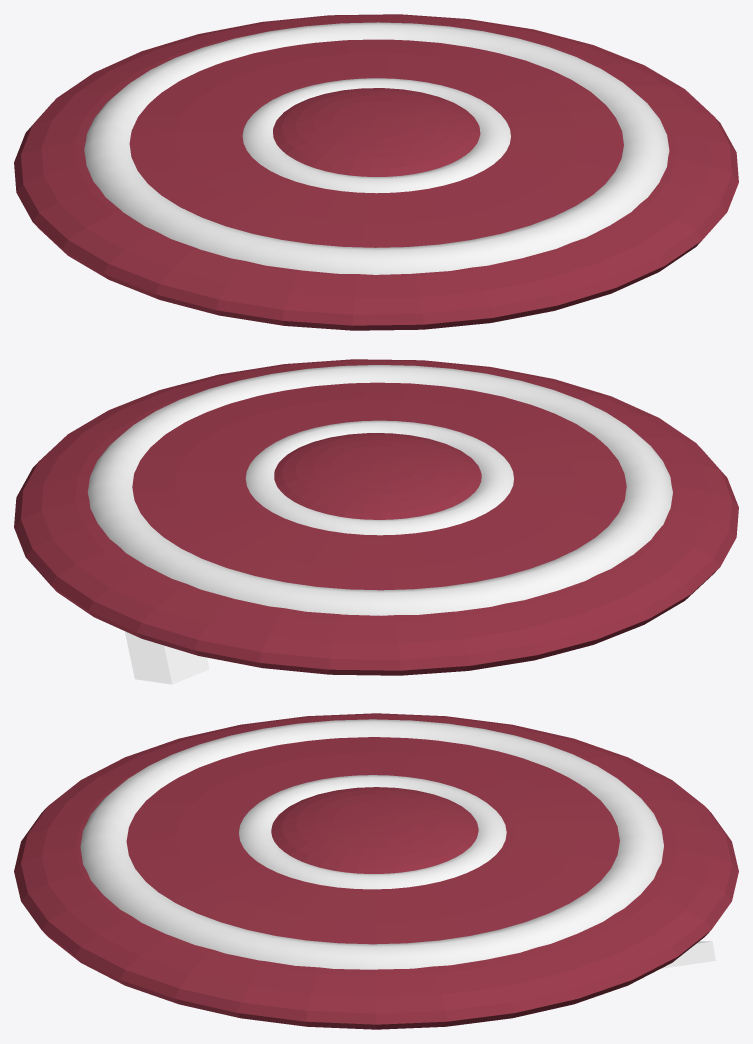
Rendered from landing_pad.glb.
3 views of the same model, one above another, from view 1: azimuth 30°, elevation 25°; view 2: azimuth 150°, elevation 25°; view 3: azimuth 270°, elevation 25° (orthographic).
Parts seen in each view (by area): view 1: Sphere.003, BézierCircle.001, Sphere, BézierCircle.002; view 2: Sphere.003, BézierCircle.001, Sphere, BézierCircle.002, Cube; view 3: Sphere.003, BézierCircle.001, Sphere, BézierCircle.002, Cube.
Boxes of the visible parts, x1=… form: Sphere.003: x1=14, y1=14, x2=738, y2=330; BézierCircle.001: x1=84, y1=22, x2=669, y2=274; Sphere: x1=273, y1=88, x2=480, y2=176; BézierCircle.002: x1=242, y1=78, x2=510, y2=193; Sphere.003: x1=14, y1=359, x2=738, y2=675; BézierCircle.001: x1=87, y1=365, x2=672, y2=615; Sphere: x1=274, y1=433, x2=481, y2=519; BézierCircle.002: x1=245, y1=420, x2=513, y2=535; Cube: x1=124, y1=631, x2=209, y2=684; Sphere.003: x1=14, y1=713, x2=738, y2=1029; BézierCircle.001: x1=80, y1=719, x2=663, y2=969; Sphere: x1=271, y1=787, x2=478, y2=873; BézierCircle.002: x1=239, y1=775, x2=506, y2=889; Cube: x1=661, y1=941, x2=715, y2=968.
Bounding box in the file's own units: 2.49 × 0.4266 × 2.49.
